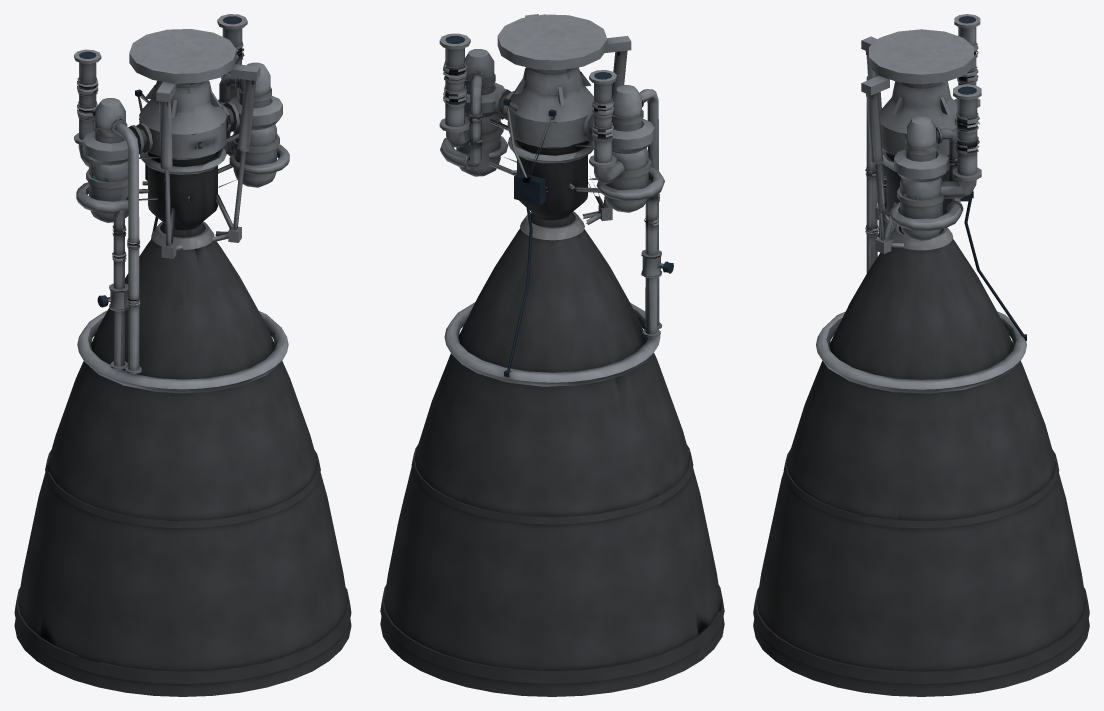
Rendered from eng_methalox_vacuum.glb.
3 views of the same model, side by side, from view 1: azimuth 30°, elevation 25°; view 2: azimuth 150°, elevation 25°; view 3: azimuth 270°, elevation 25° (orthographic). The views are drawn at different scales.
Visible parts, largest first — view 1: eng_methalox_vacuum_mesh; view 2: eng_methalox_vacuum_mesh; view 3: eng_methalox_vacuum_mesh.
Part boxes in pixels (x1=…): eng_methalox_vacuum_mesh: x1=14, y1=14, x2=351, y2=696; eng_methalox_vacuum_mesh: x1=380, y1=14, x2=724, y2=696; eng_methalox_vacuum_mesh: x1=753, y1=14, x2=1089, y2=696.
Size of the model in its own units: 2.5 by 4.7 by 2.5.
1 material, 1 textured.
